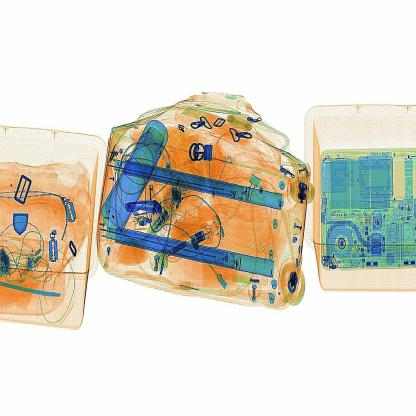knife: (124, 194, 170, 219)
